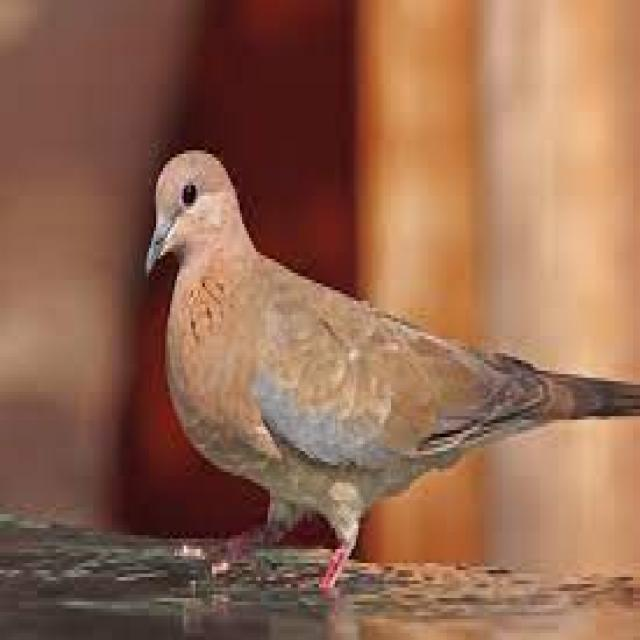bird: (141, 141, 640, 595)
